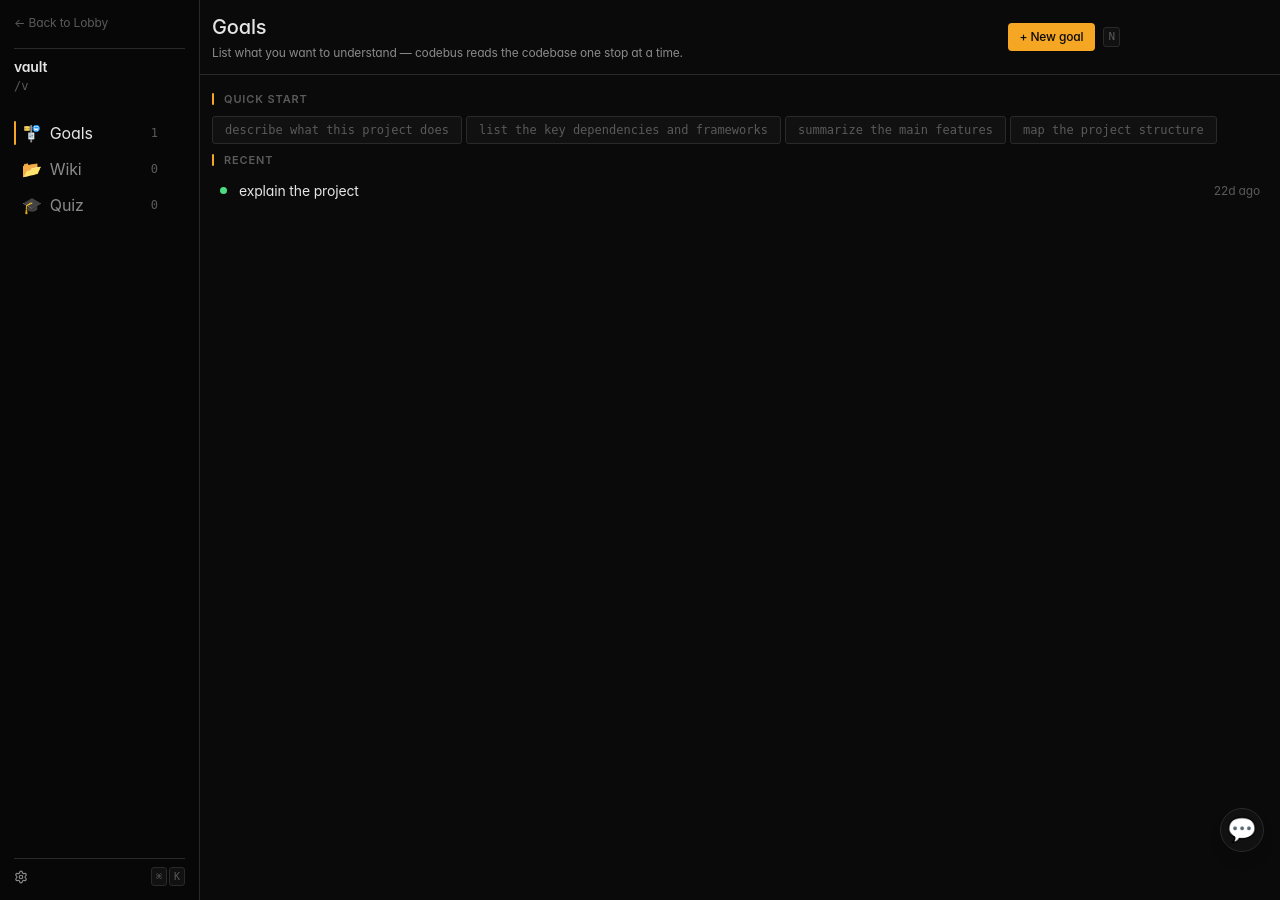
Test: Workspace › Run Detail Load Failure Surfacing › retry after a transient failure loads the terminal Done detail
Click the button "explain the project 22d ago" at (299,190), box [208, 172, 1272, 209]
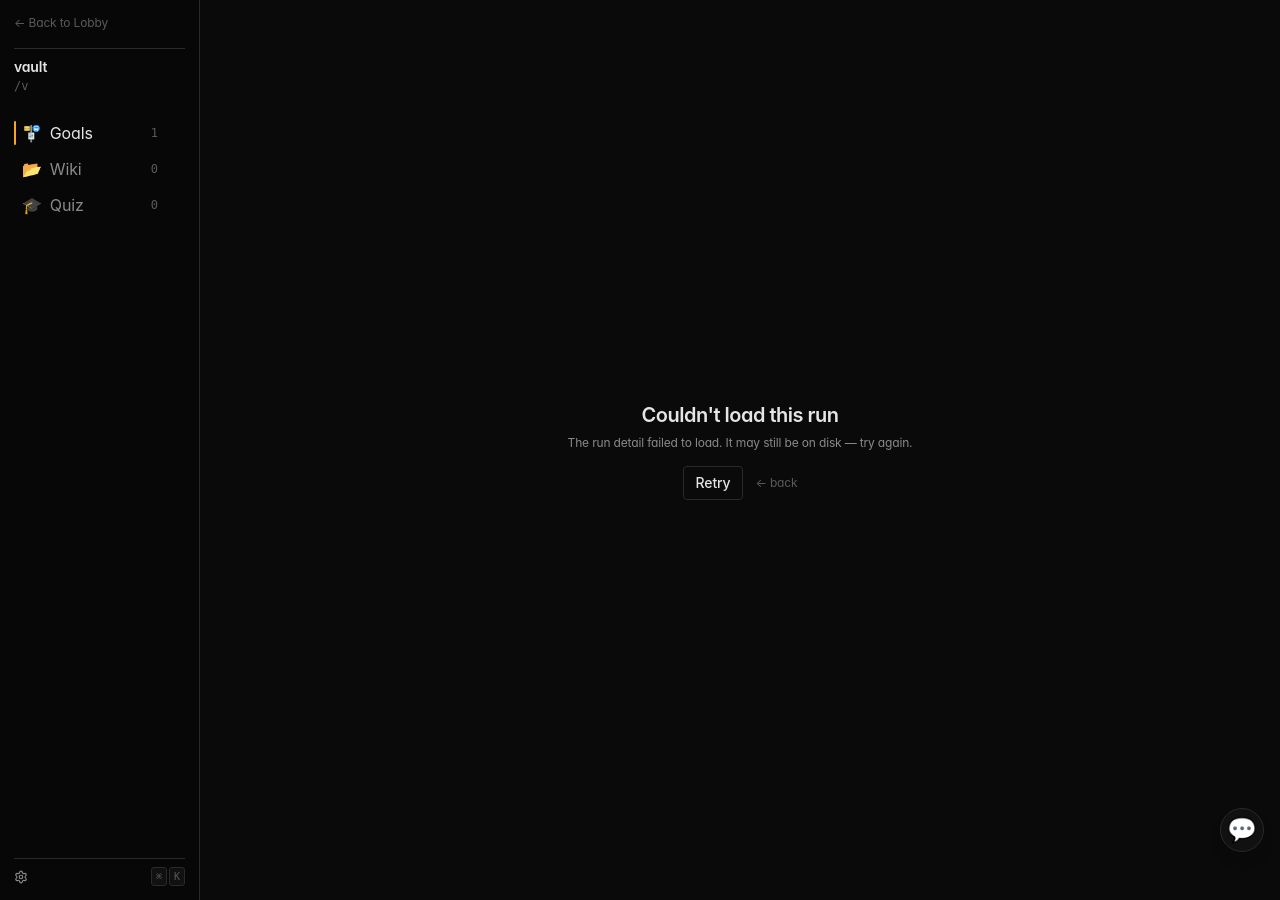
Click the button with test id "run-detail-load-error-retry" at (713,483), box [683, 466, 743, 500]
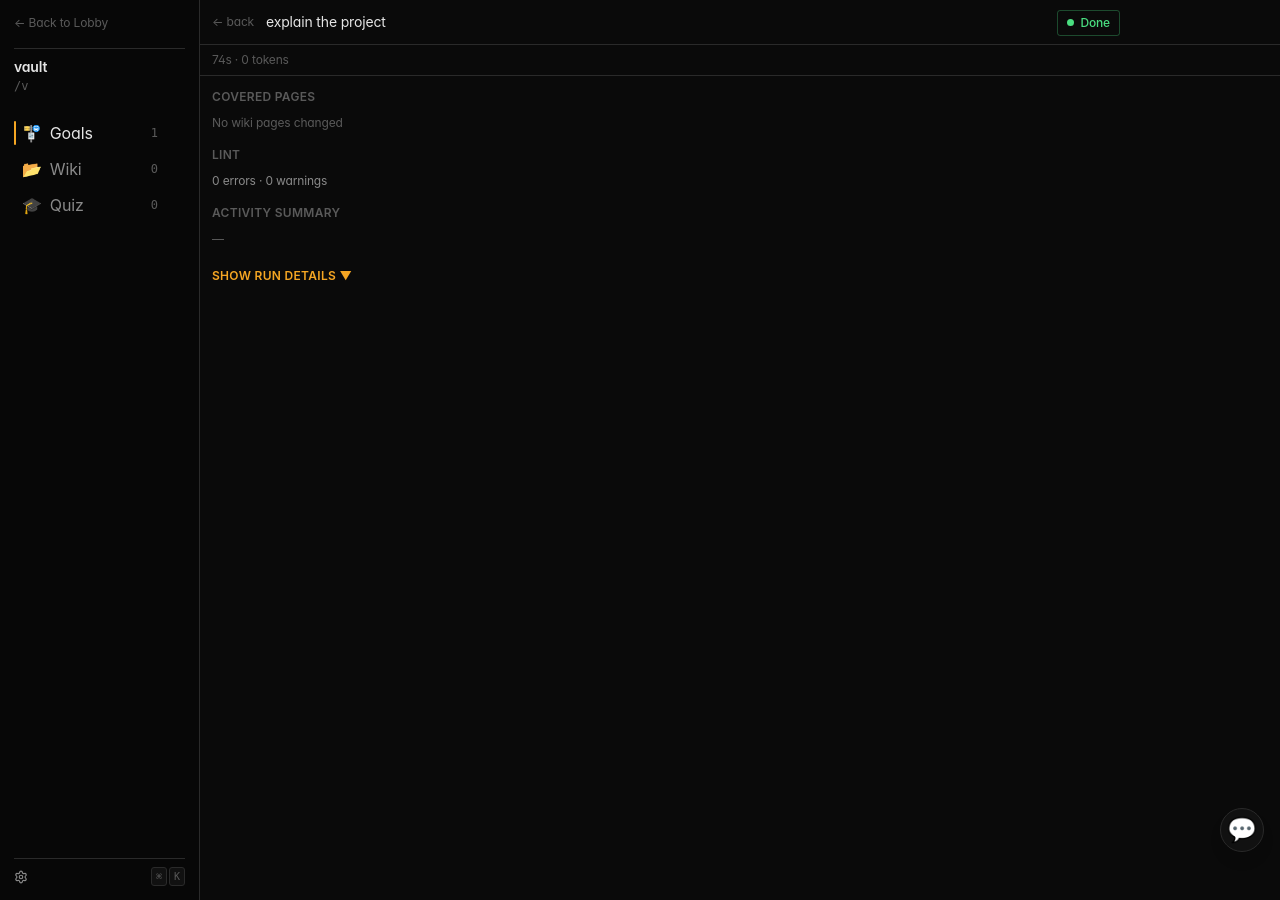
Expected: the element with test id "run-detail-done" is shown, [200, 0, 1279, 284]
